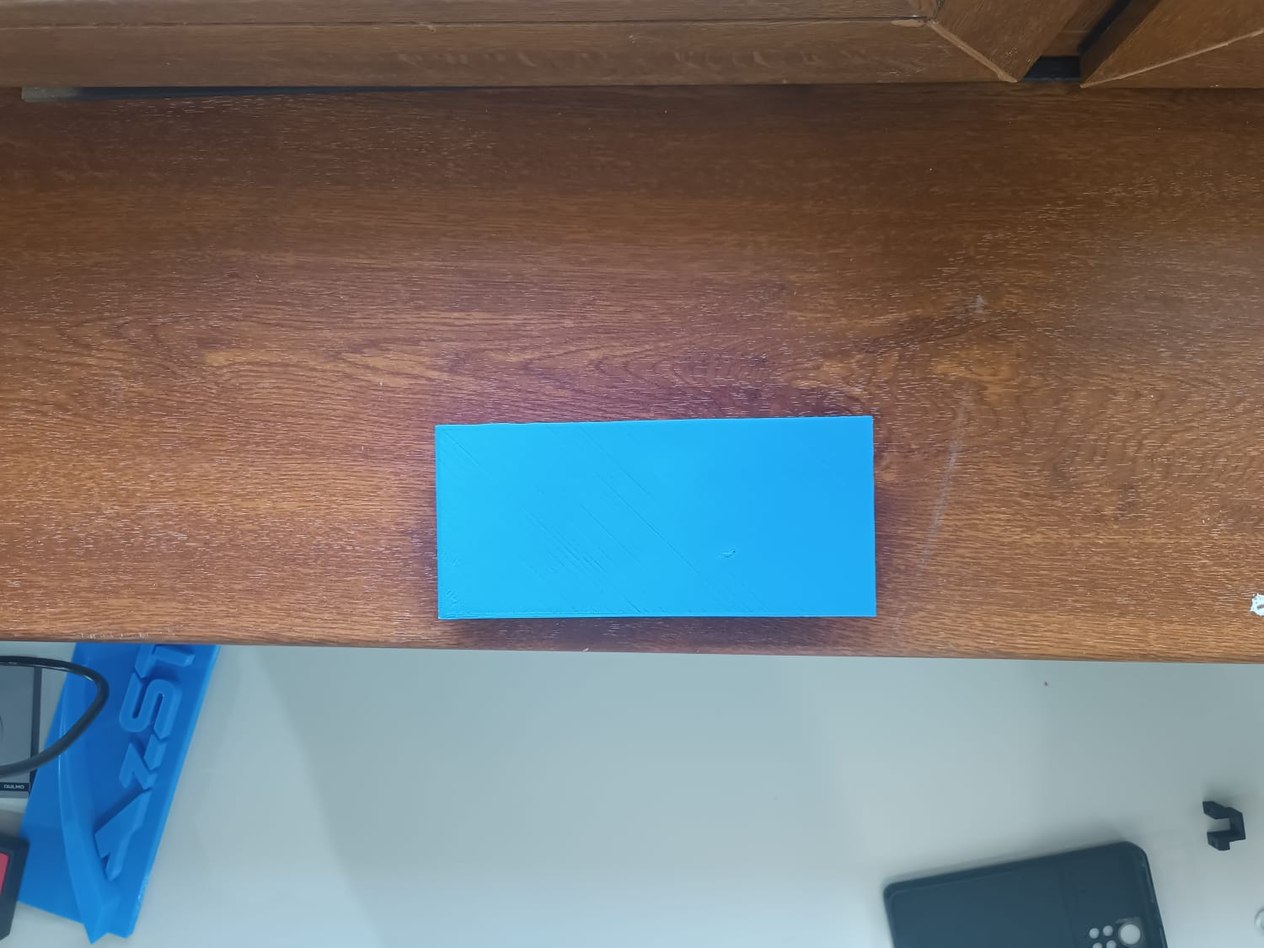Rectangular: (420, 410, 887, 634)
